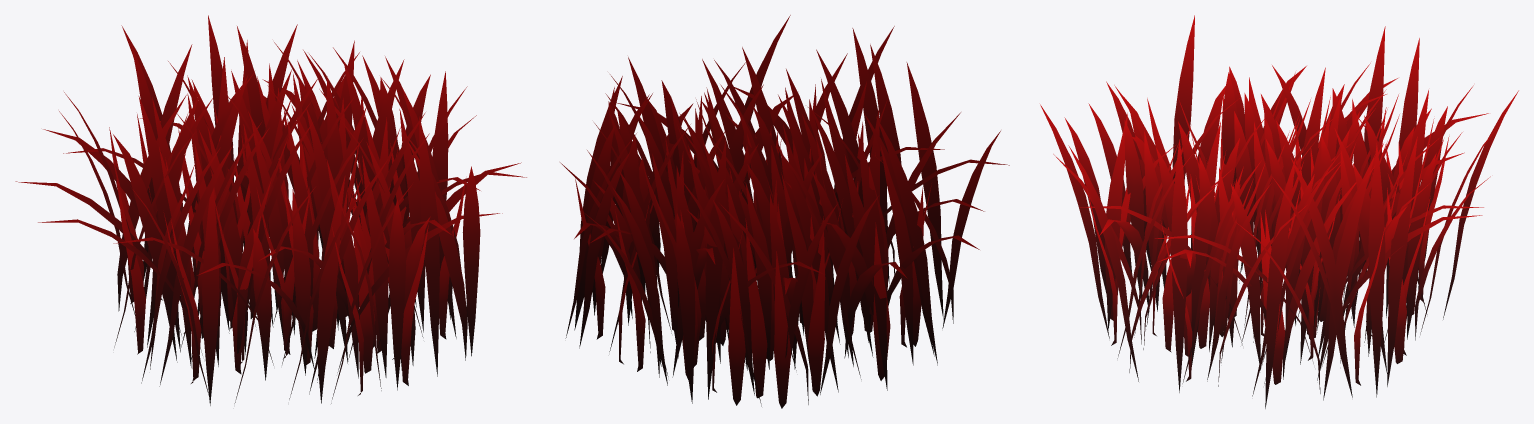
The model's file is Trava_.fbx.
3 views of the same model, side by side, from view 1: azimuth 30°, elevation 25°; view 2: azimuth 150°, elevation 25°; view 3: azimuth 270°, elevation 25° (orthographic). The views are drawn at different scales.
Parts seen in each view (by area): view 1: Grass; view 2: Grass; view 3: Grass.
Boxes of the visible parts, x1=… form: Grass: x1=15, y1=15, x2=526, y2=405; Grass: x1=560, y1=15, x2=1009, y2=408; Grass: x1=1040, y1=15, x2=1518, y2=408.
Bounding box in the file's own units: 255 × 130 × 255.
